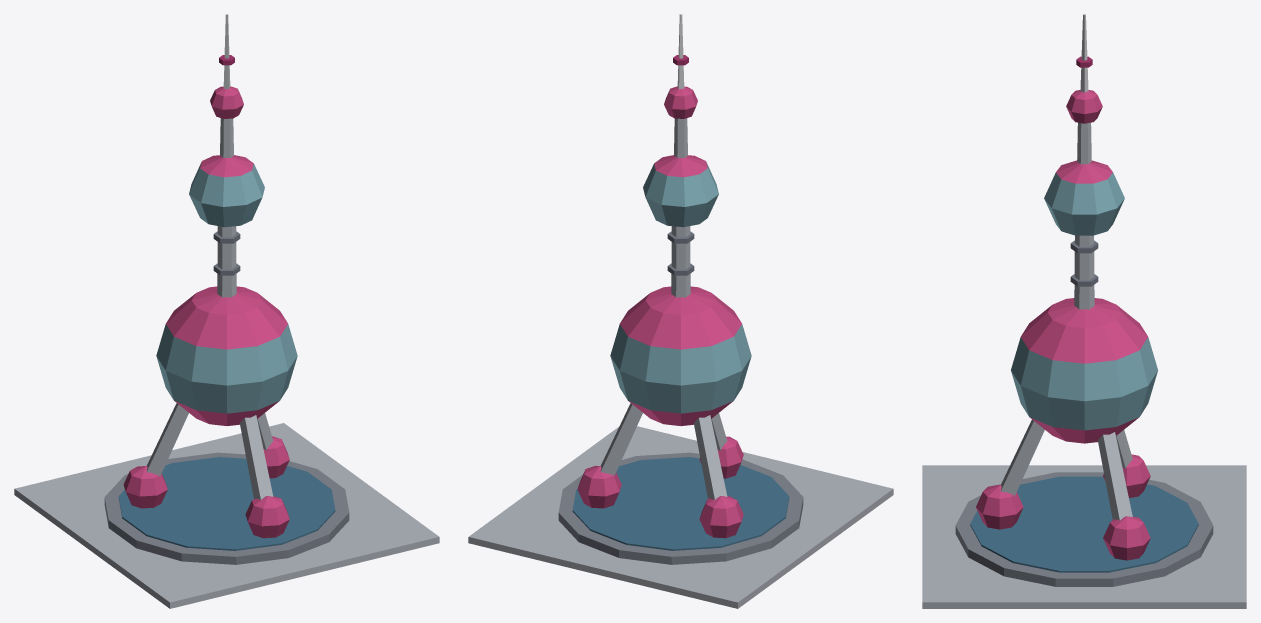
File: perleOrient.glb
The picture shows the model from 3 angles, left to right: view 1: azimuth 30°, elevation 25°; view 2: azimuth 150°, elevation 25°; view 3: azimuth 270°, elevation 25°; orthographic projection. The views are drawn at different scales.
Visible parts, largest first — view 1: perleOrient; view 2: perleOrient; view 3: perleOrient.
Boxes of the visible parts, x1,y1,x2,y2 form: perleOrient: [14, 14, 439, 608]; perleOrient: [468, 14, 893, 608]; perleOrient: [922, 14, 1246, 608].
Size of the model in its own units: 1.76 by 3.15 by 1.76.
